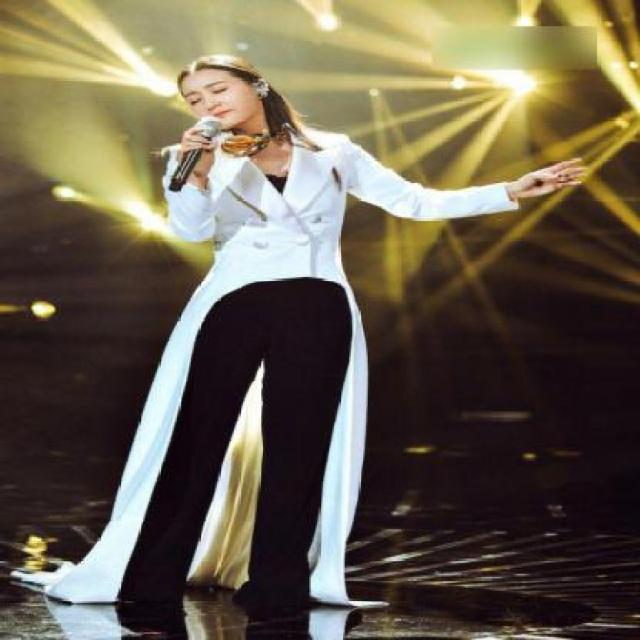Person: (94, 32, 472, 639)
